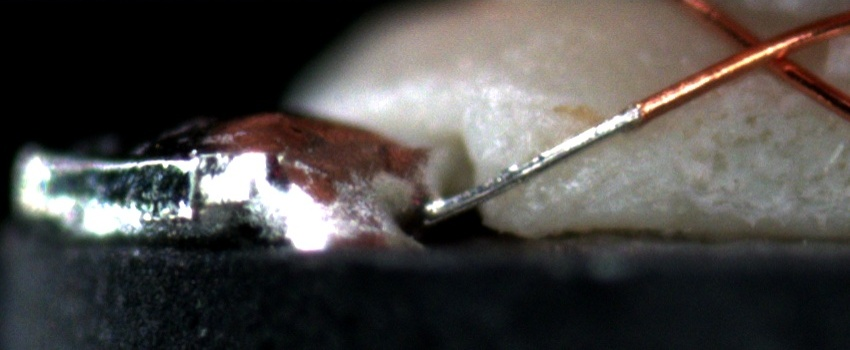CL: (717, 18, 816, 81)
TS: (419, 102, 642, 229)
